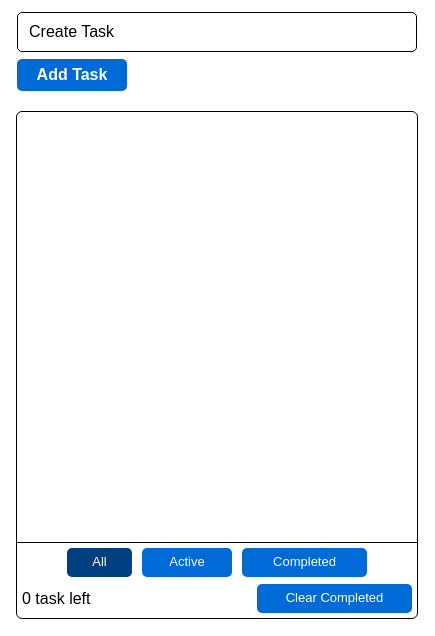
Scenario: Todo Component › shows correct task count
Type "Task 1" into the field.
click(217, 32); type("Task 1")  # box x1=17 y1=12 x2=417 y2=52
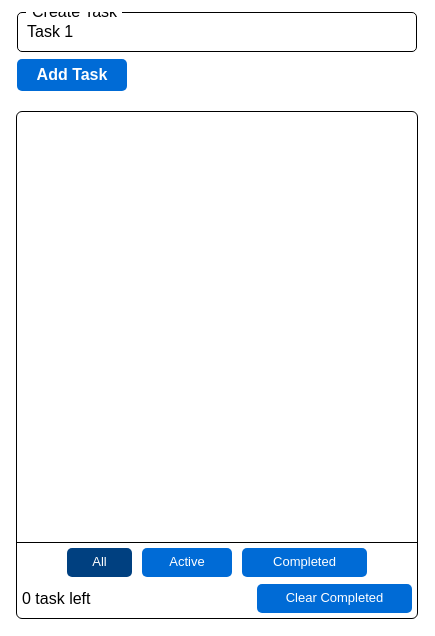
Submit the form with class "form", box x1=17 y1=12 x2=417 y2=91
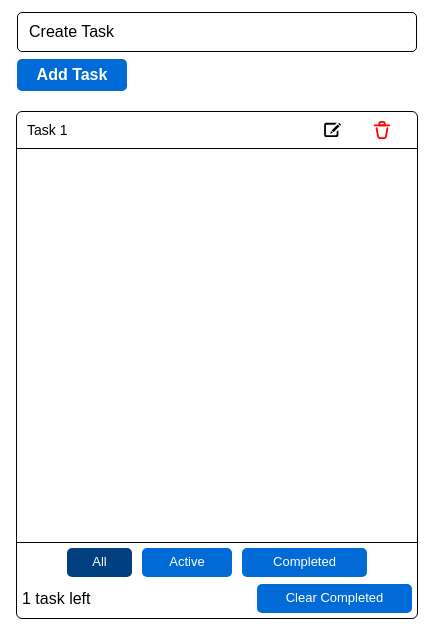
Type "Task 2" into the field.
click(217, 32); type("Task 2")  # box x1=17 y1=12 x2=417 y2=52
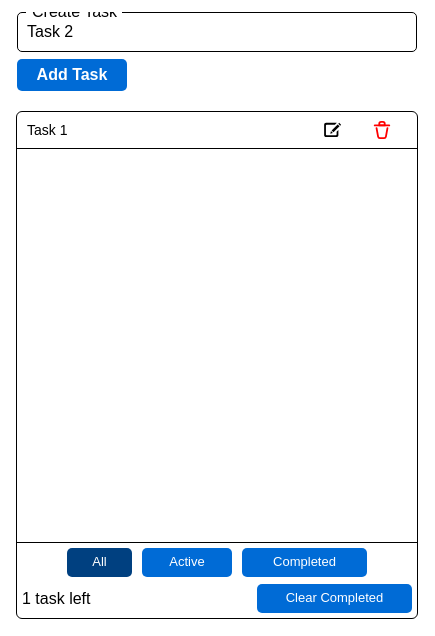
Submit the form with class "form", box x1=17 y1=12 x2=417 y2=91
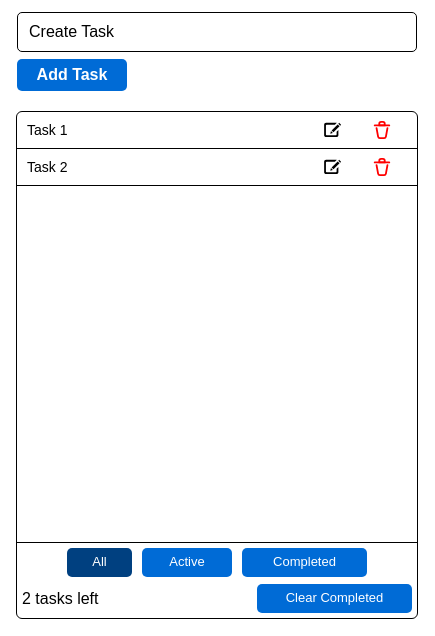
Check: the text "tasks left" is shown, box x1=35 y1=590 x2=98 y2=607
Check: the text "2" is shown, box x1=22 y1=590 x2=31 y2=607
